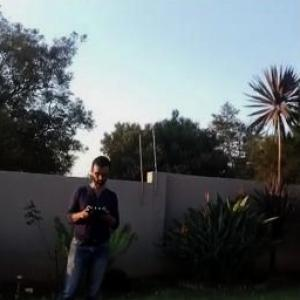follow: (40, 152, 124, 299)
